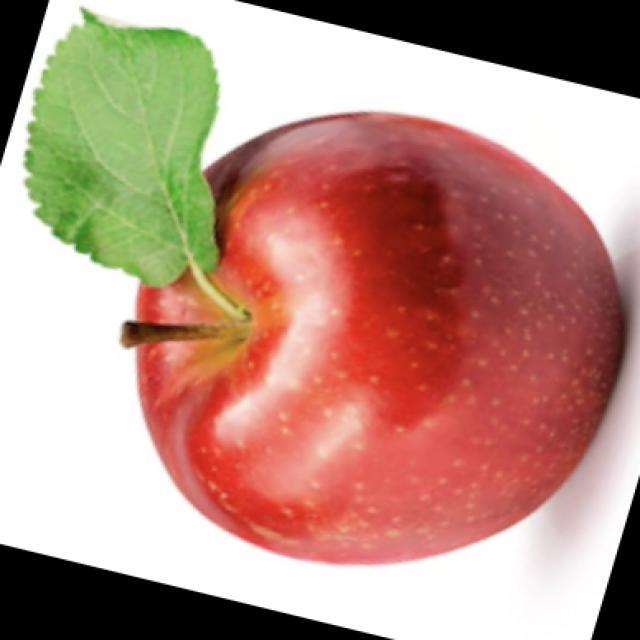Fresh Apple: (125, 127, 640, 588)
